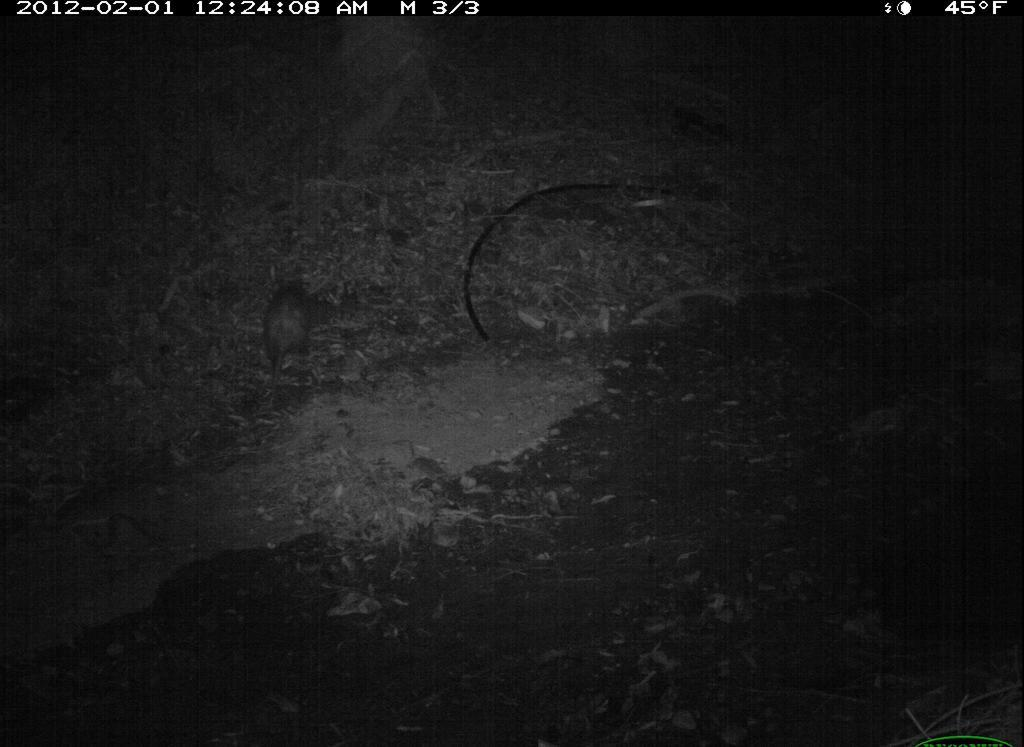opossum: (257, 251, 334, 389)
